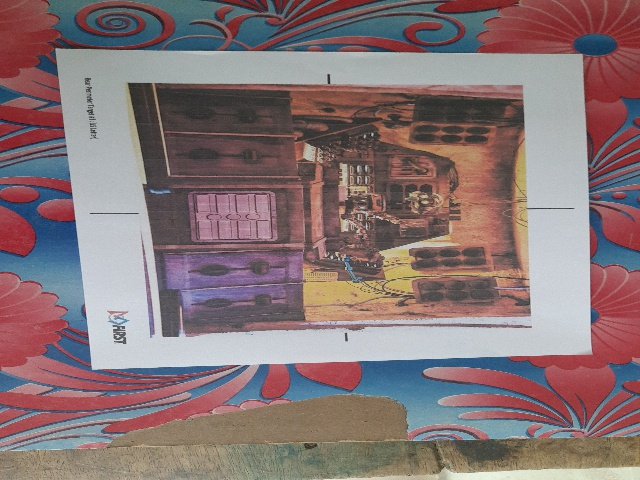rept1: (69, 54, 558, 343)
